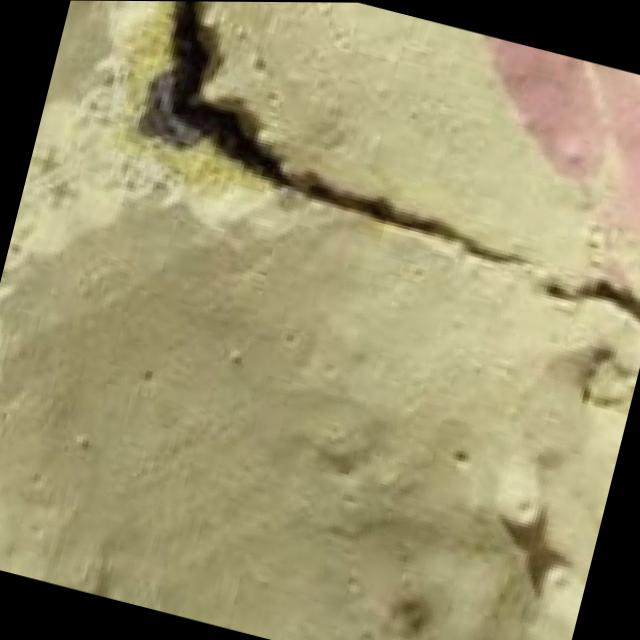Crack: (53, 0, 640, 358)
